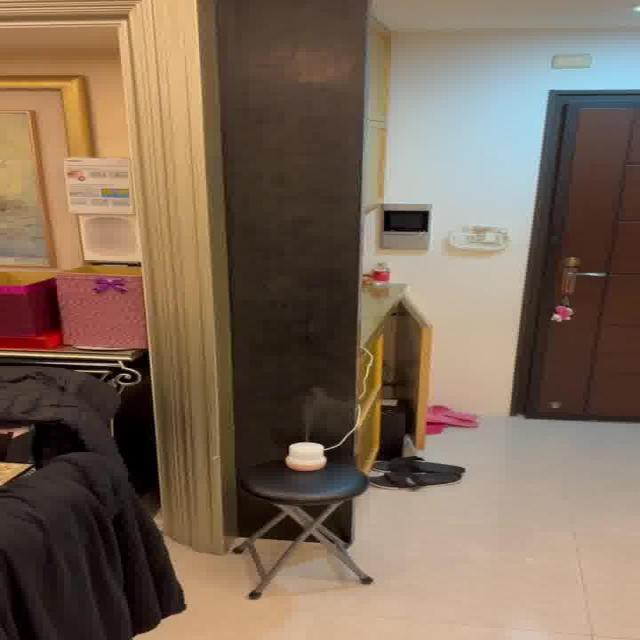fire: (292, 386, 344, 436)
